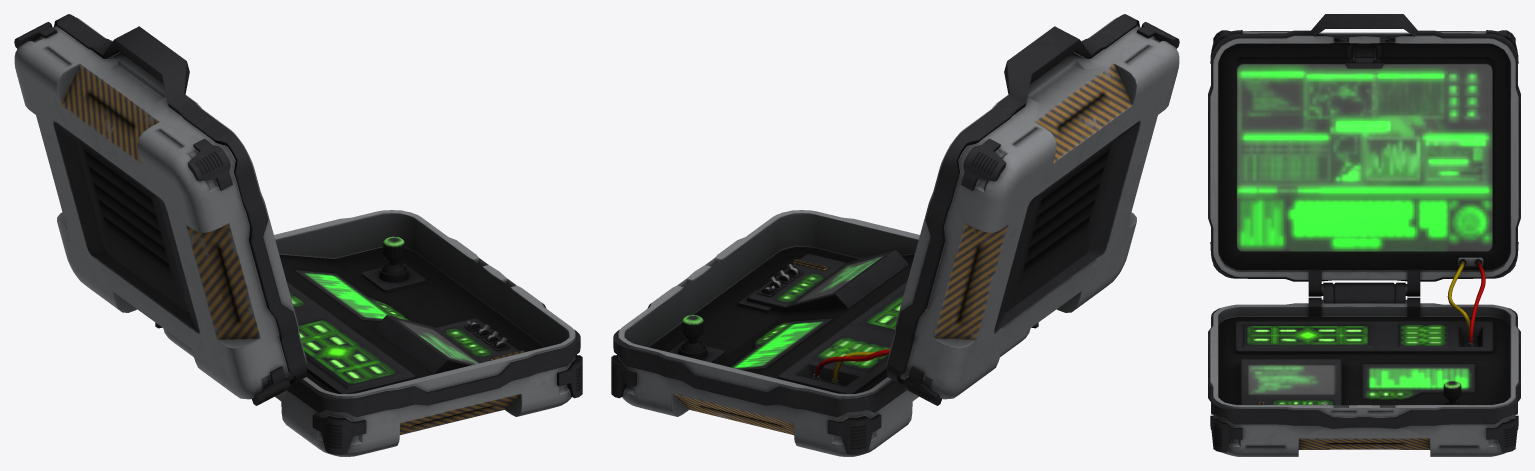
File: Laptop Opened.glb
3 renders of one model, left to right at view 1: azimuth 30°, elevation 25°; view 2: azimuth 150°, elevation 25°; view 3: azimuth 270°, elevation 25°, orthographic. The views are drawn at different scales.
Parts seen in each view (by area): view 1: Laptop_Opened; view 2: Laptop_Opened; view 3: Laptop_Opened.
Part boxes in pixels (x1,y1,x2,y2): Laptop_Opened: (14,14,582,456); Laptop_Opened: (611,14,1179,456); Laptop_Opened: (1208,14,1520,456).
Size of the model in its own units: 0.516 by 0.4588 by 0.4199.
1 material, 1 textured.
